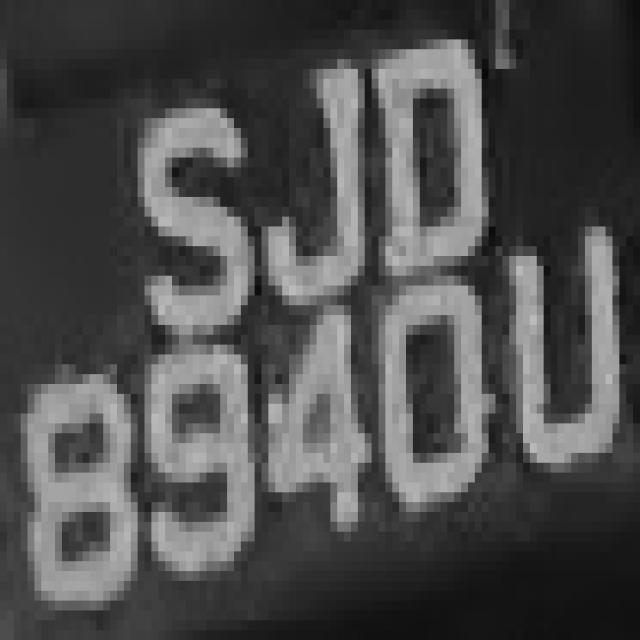0: (358, 276, 482, 532)
4: (254, 266, 378, 571)
8: (28, 345, 138, 630)
9: (117, 296, 275, 600)
D: (372, 30, 496, 315)
J: (241, 29, 378, 325)
S: (110, 79, 255, 335)
U: (496, 197, 612, 502)
